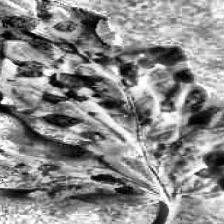disease: (0, 0, 224, 201)
